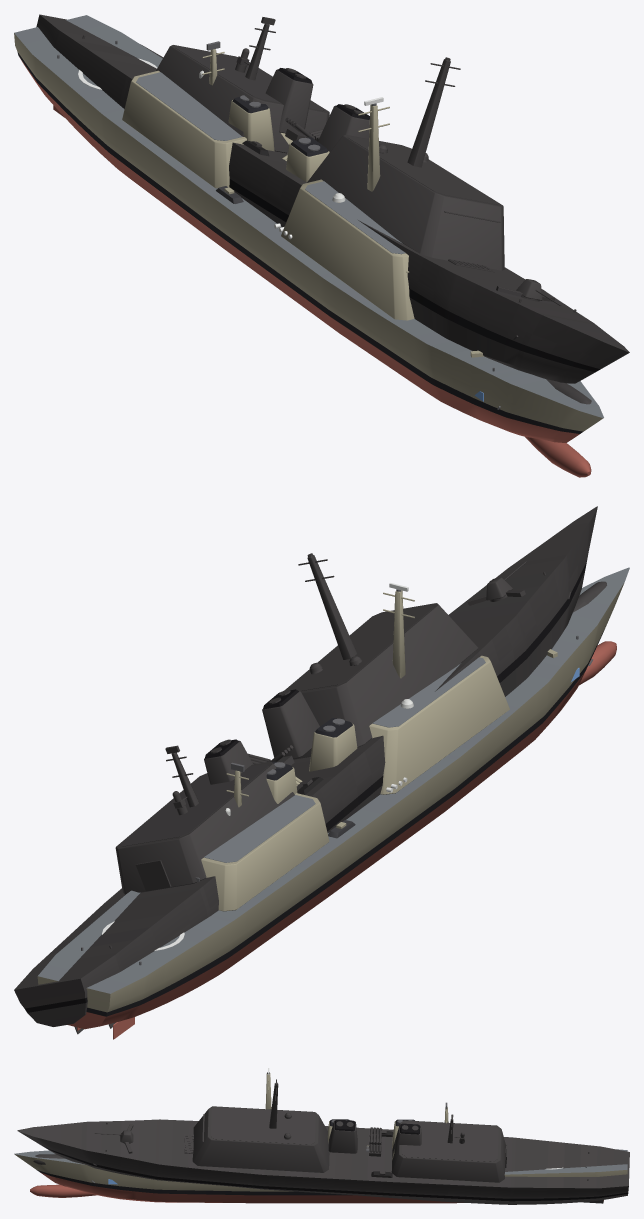
Rendered from destroyer__asahi_class.glb.
3 renders of one model, top to bottom at view 1: azimuth 30°, elevation 25°; view 2: azimuth 150°, elevation 25°; view 3: azimuth 270°, elevation 25°, orthographic. The views are drawn at different scales.
Parts seen in each view (by area): view 1: Hull_Mesh, Wreck; view 2: Wreck, Hull_Mesh; view 3: Wreck, Hull_Mesh.
Part boxes in pixels (<box>): Hull_Mesh: <box>14,15,603,477</box>; Wreck: <box>36,14,629,404</box>; Wreck: <box>14,506,606,1034</box>; Hull_Mesh: <box>37,567,629,1039</box>; Wreck: <box>17,1079,629,1204</box>; Hull_Mesh: <box>14,1073,627,1203</box>.
Size of what is drawn, in the model's own units: 24.4 by 38.79 by 157.
